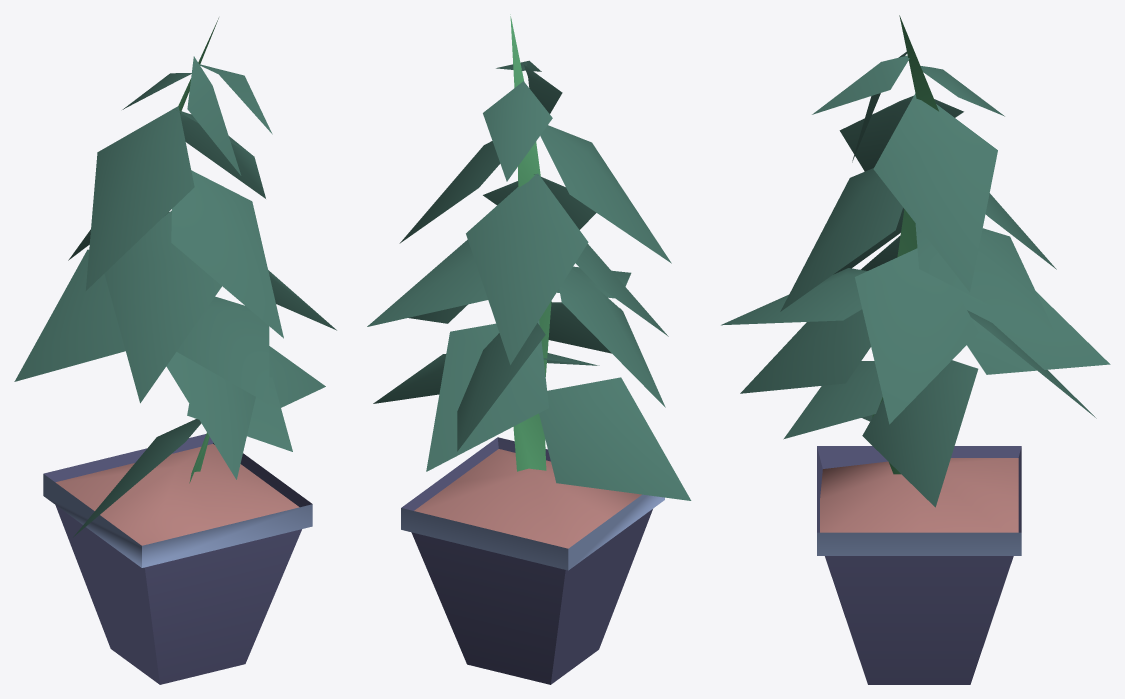
The model's file is plant.gltf.
3 renders of one model, left to right at view 1: azimuth 30°, elevation 25°; view 2: azimuth 150°, elevation 25°; view 3: azimuth 270°, elevation 25°, orthographic. The views are drawn at different scales.
Visible parts, largest first — view 1: plant; view 2: plant; view 3: plant.
Boxes of the visible parts, bbox=[...] form: plant: bbox=[14, 18, 336, 684]; plant: bbox=[367, 14, 691, 684]; plant: bbox=[721, 15, 1110, 684].
Bounding box in the file's own units: 0.895 × 1.79 × 0.9528.
1 material, 1 textured.
